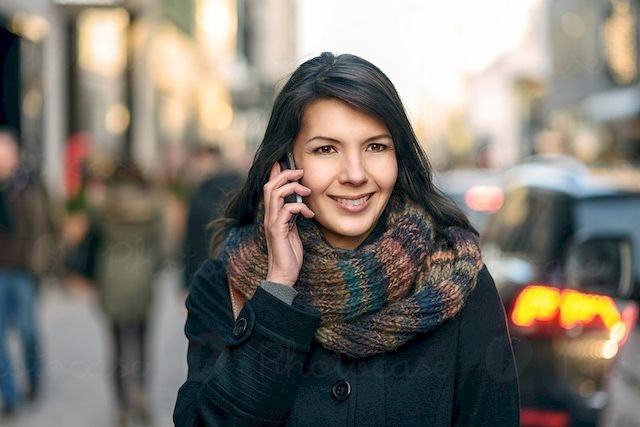phone: (275, 150, 317, 228)
talk: (254, 129, 402, 275)
